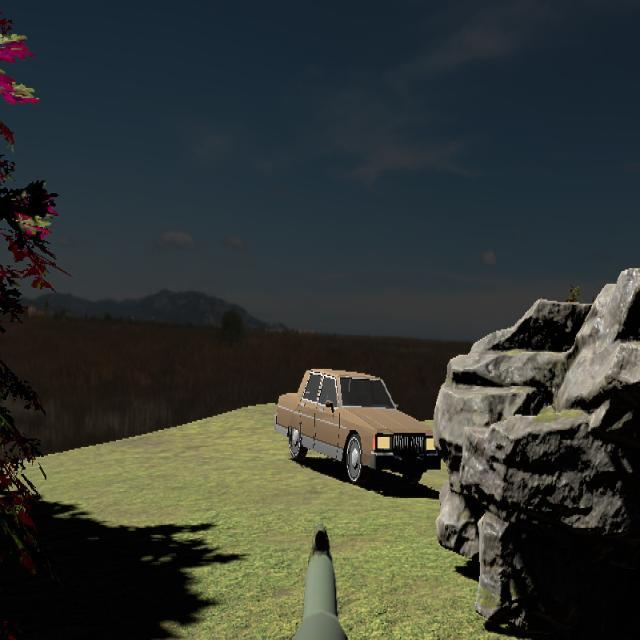car: (274, 367, 439, 486)
